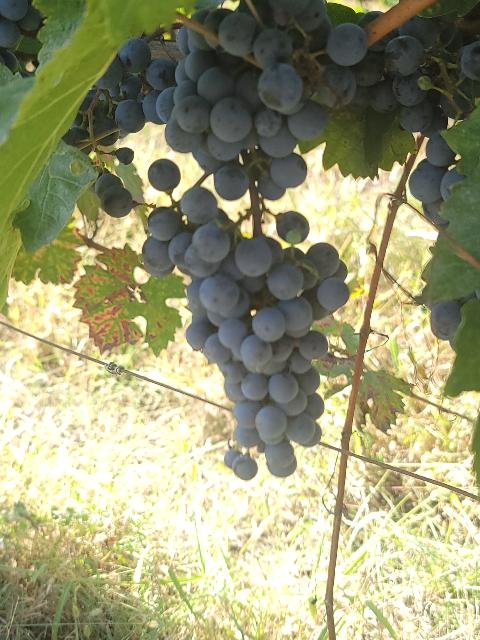grapes: (142, 186, 350, 478)
